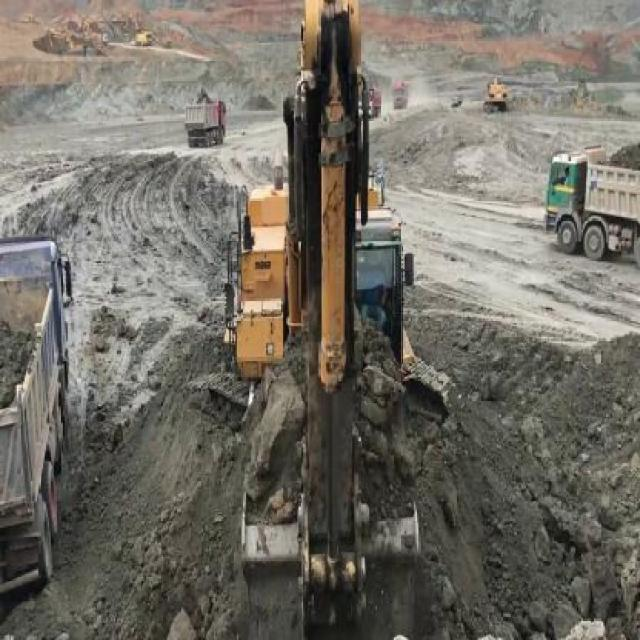dump_truck: (0, 230, 80, 599), (546, 135, 640, 253), (179, 97, 227, 141), (392, 82, 406, 107), (365, 95, 383, 114)
excavator: (214, 2, 457, 630), (484, 76, 508, 115)
